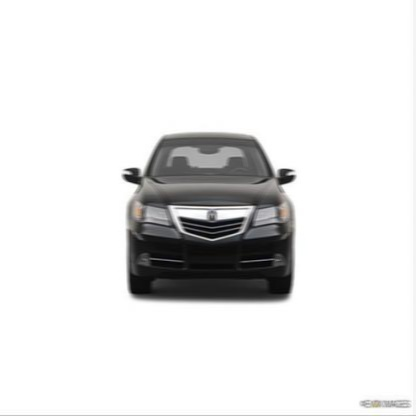Vehicle: (121, 131, 298, 301)
